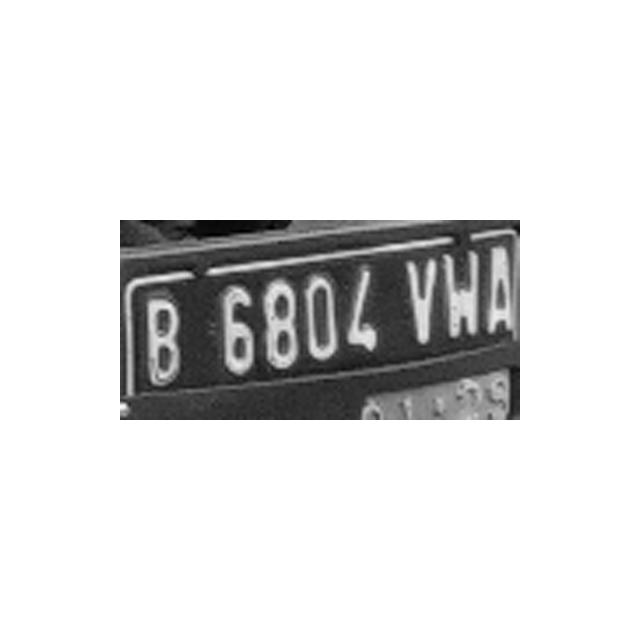contain: (142, 288, 184, 396), (215, 274, 257, 382), (258, 270, 300, 378), (298, 266, 340, 374), (340, 259, 382, 367), (401, 251, 443, 359), (440, 247, 484, 347), (484, 234, 516, 342)
